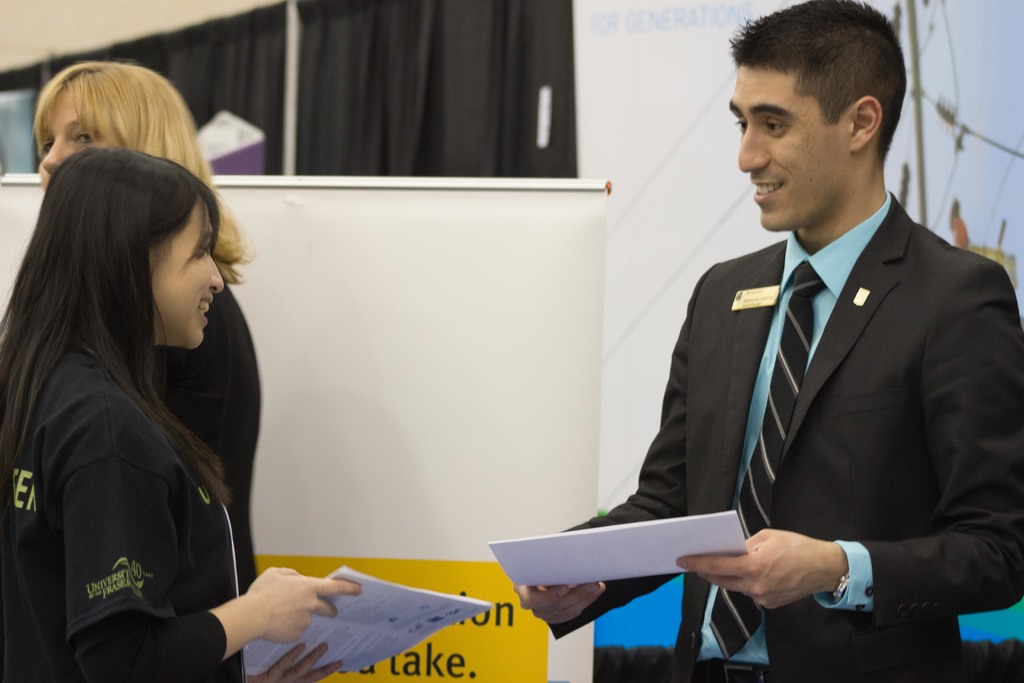Human-face: (727, 63, 848, 228), (150, 194, 227, 350), (36, 88, 124, 198)
